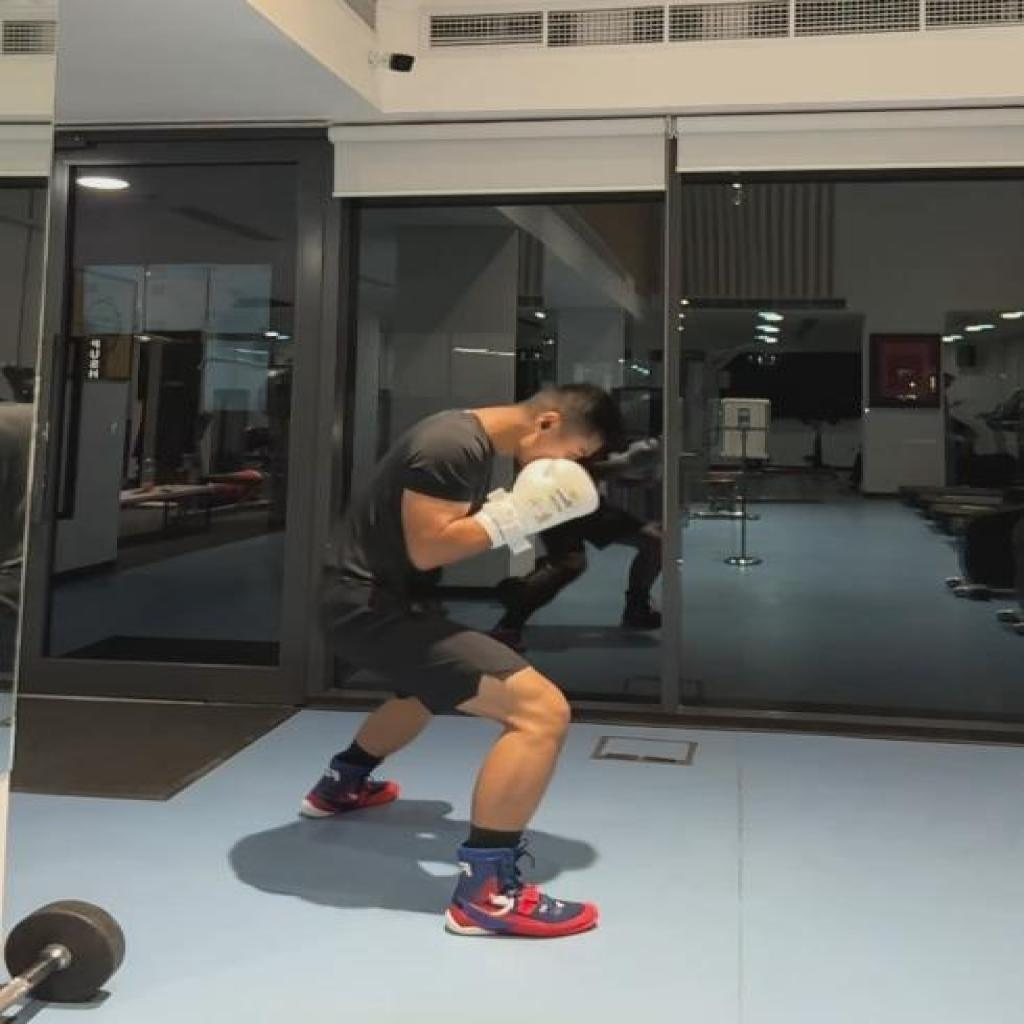no punch: (294, 374, 620, 941)
